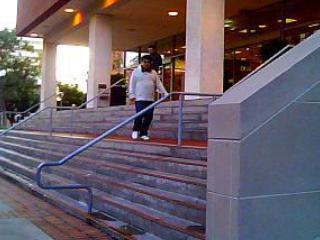Escaleras: (0, 144, 216, 240), (8, 105, 265, 144)
